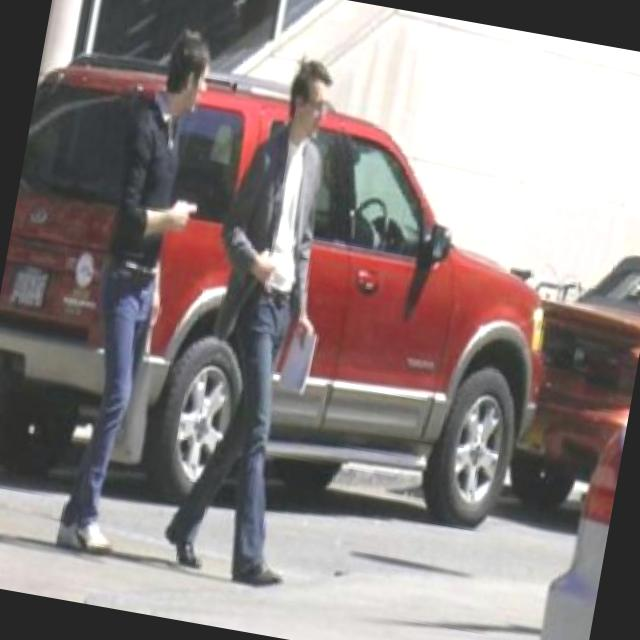Person: (156, 40, 368, 592), (45, 20, 231, 565)
